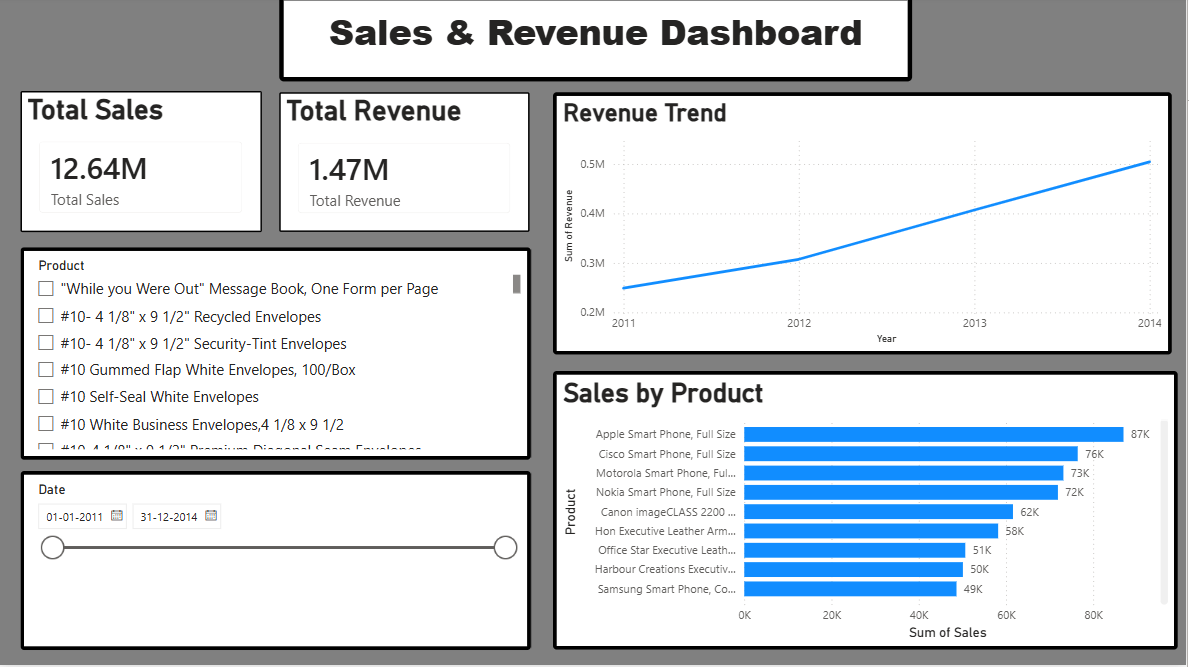

The page's visual inventory and layout, read from the dashboard file:
{"tool":"powerbi","page":{"name":"Page 1","canvas":[1280,720],"ordinal":0},"visuals":[{"type":"cardVisual","title":"Total Sales","fields":{"Data":["superstore.Total Sales"]},"box":[24.2,102.3,259.8,152.1],"z":0},{"type":"cardVisual","title":"Total Revenue","fields":{"Data":["superstore.Total Revenue"]},"box":[302.9,103.7,269.2,150.8],"z":1000},{"type":"clusteredBarChart","title":" Sales by Product","fields":{"Category":["superstore.Product"],"Y":["Sum(superstore.Sales)"]},"box":[597.7,403.9,673.1,300.2],"z":2000},{"type":"lineChart","title":"Revenue Trend","fields":{"Category":["superstore.Date.Variation.Date Hierarchy.Year","superstore.Date.Variation.Date Hierarchy.Quarter","superstore.Date.Variation.Date Hierarchy.Month","superstore.Date.Variation.Date Hierarchy.Day"],"Y":["Sum(superstore.Revenue)"]},"box":[597.7,103.7,666.4,282.7],"z":3000},{"type":"slicer","fields":{"Values":["superstore.Product"]},"box":[24.2,270.6,549.3,228.9],"z":4000},{"type":"slicer","fields":{"Values":["superstore.Date"]},"box":[24.2,511.6,549.3,192.5],"z":5000},{"type":"textbox","box":[303.3,0,682,91.9],"z":6000}]}

Visuals, with their boxes in screenshot pixels (x1, y1, x2, y2), scaled from the page's 1280x720 canvas onto the 1189x667 screenshot:
"Total Sales" cardVisual: (x1=22, y1=95, x2=264, y2=236)
"Total Revenue" cardVisual: (x1=281, y1=96, x2=531, y2=236)
" Sales by Product" clusteredBarChart: (x1=555, y1=374, x2=1180, y2=652)
"Revenue Trend" lineChart: (x1=555, y1=96, x2=1174, y2=358)
slicer - superstore.Product: (x1=22, y1=251, x2=533, y2=463)
slicer - superstore.Date: (x1=22, y1=474, x2=533, y2=652)
textbox: (x1=282, y1=0, x2=915, y2=85)
